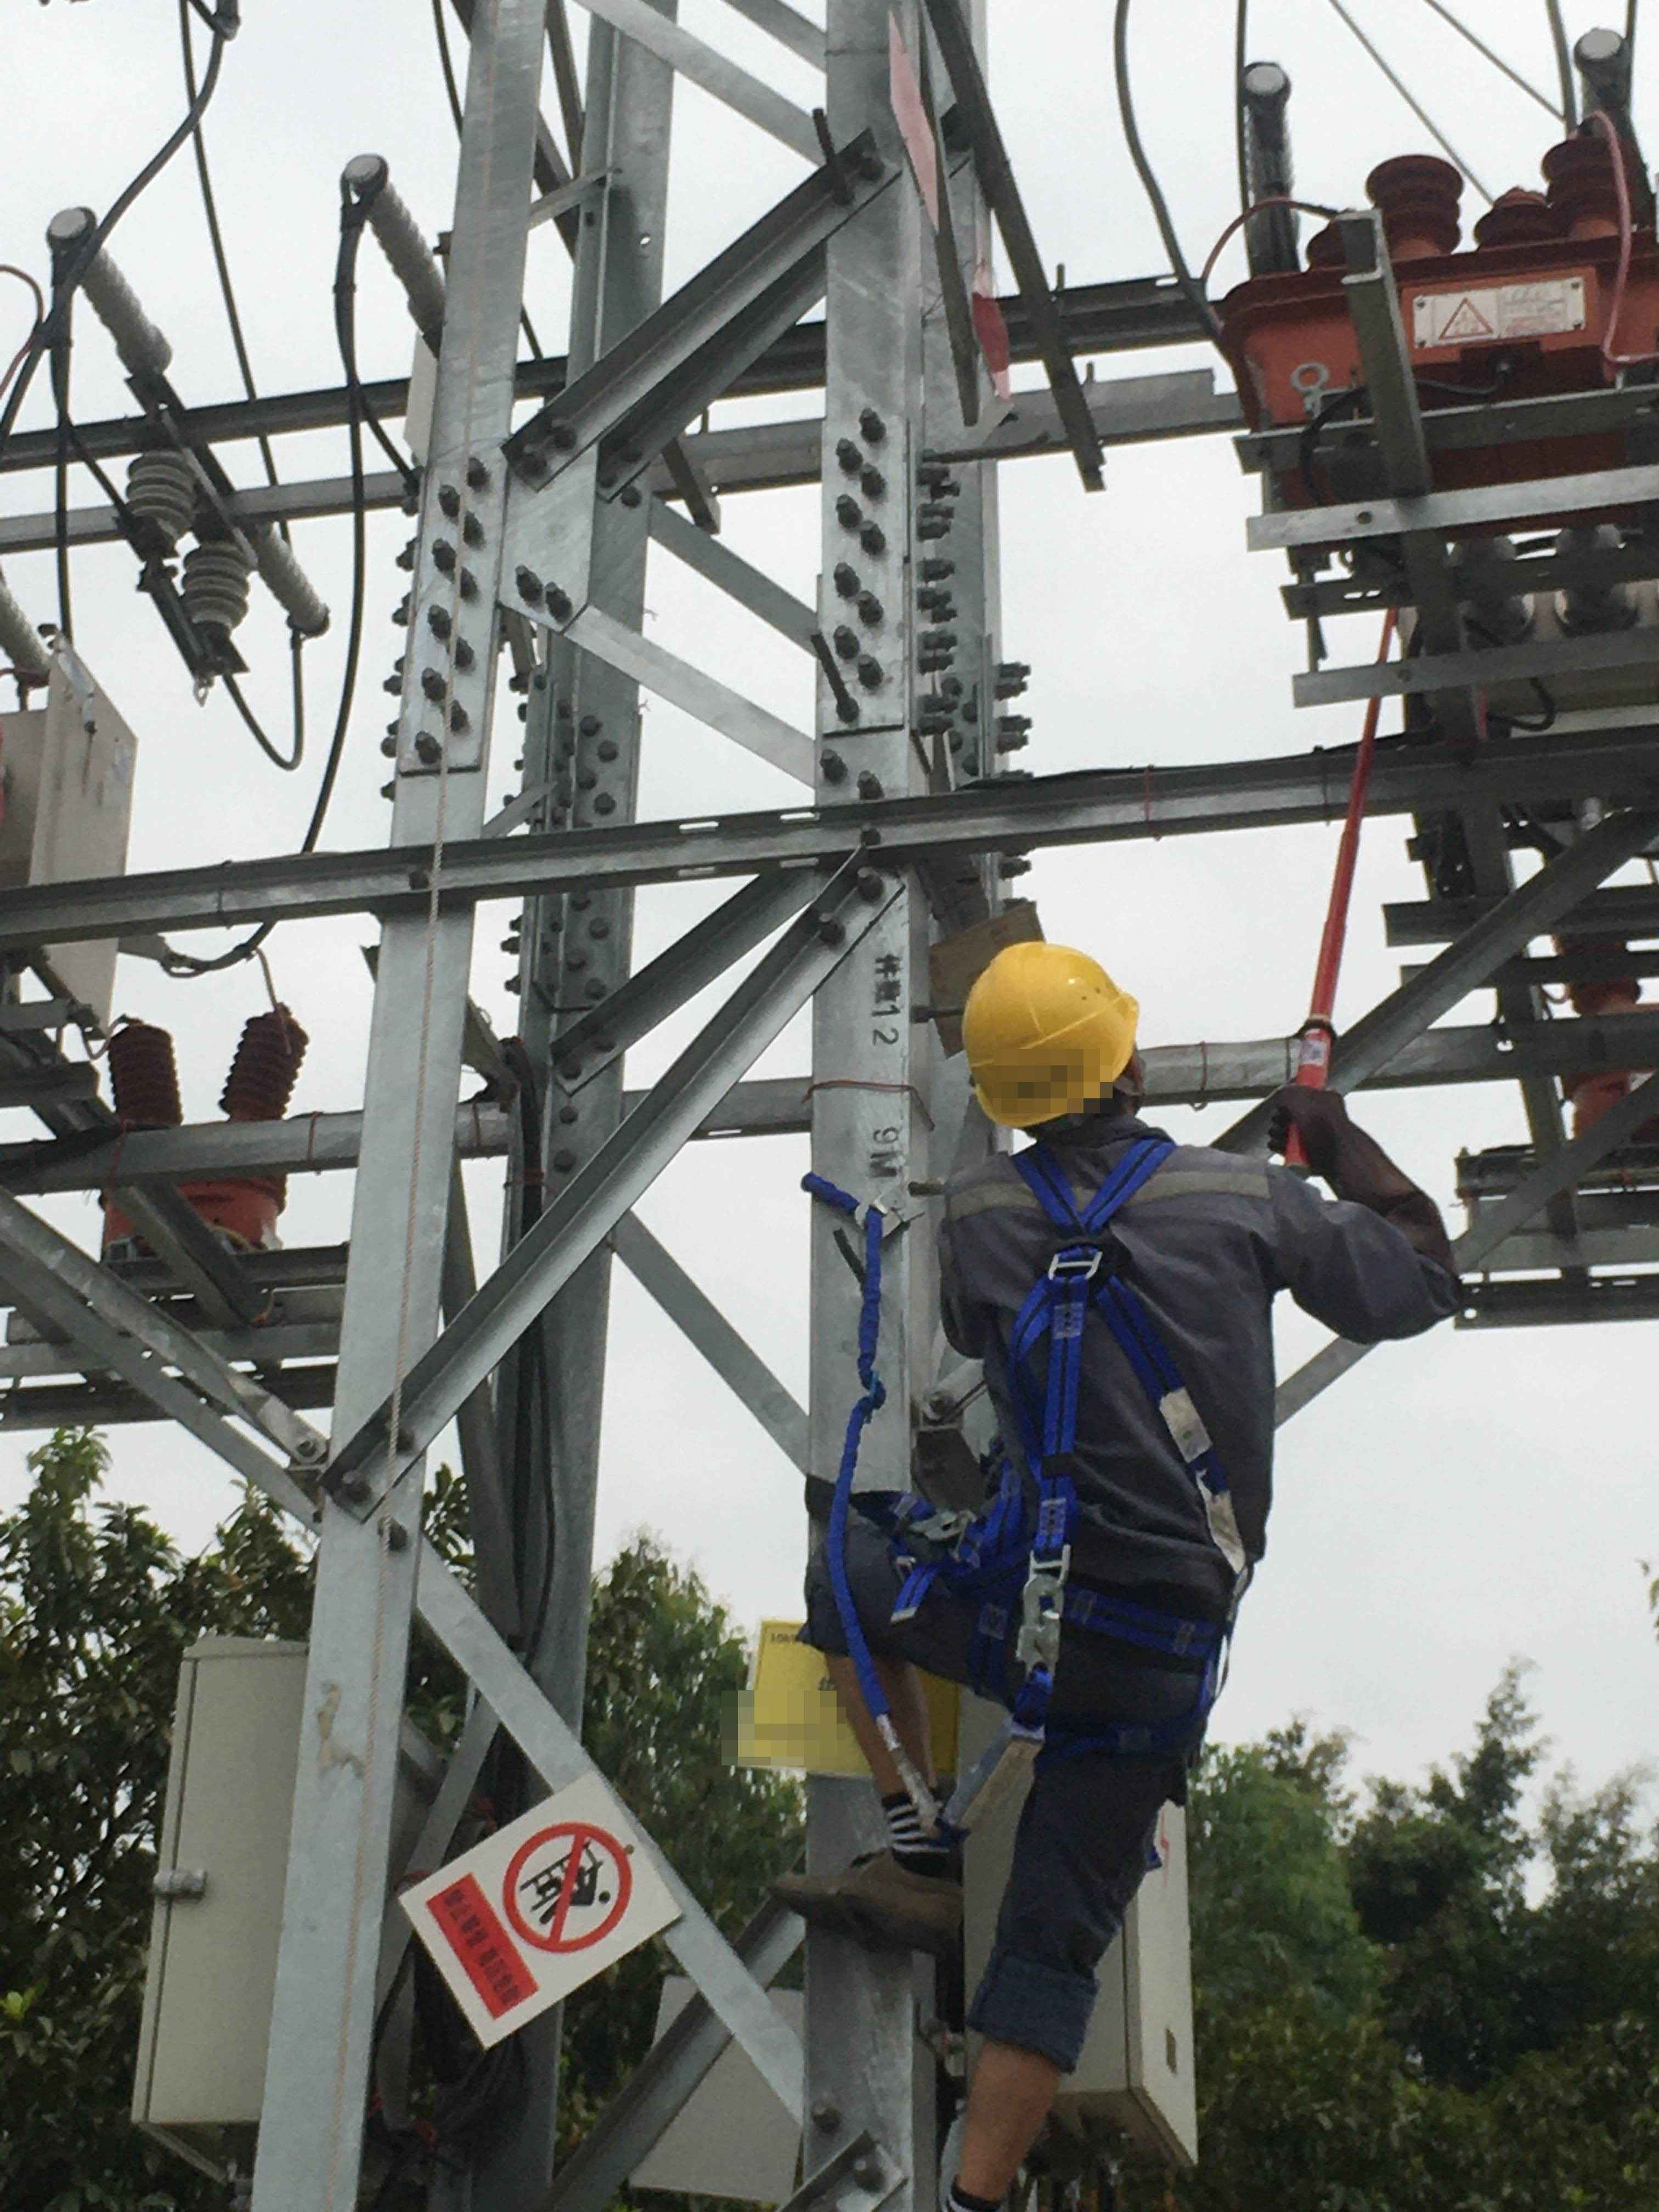downsuit: (828, 1522, 1244, 2191)
upsuit: (943, 1148, 1331, 1580)
wrongbottom: (932, 1951, 1121, 2198), (826, 1604, 950, 1897)
